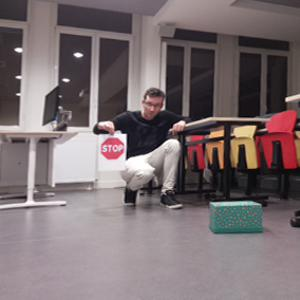stop: (100, 137, 125, 161)
